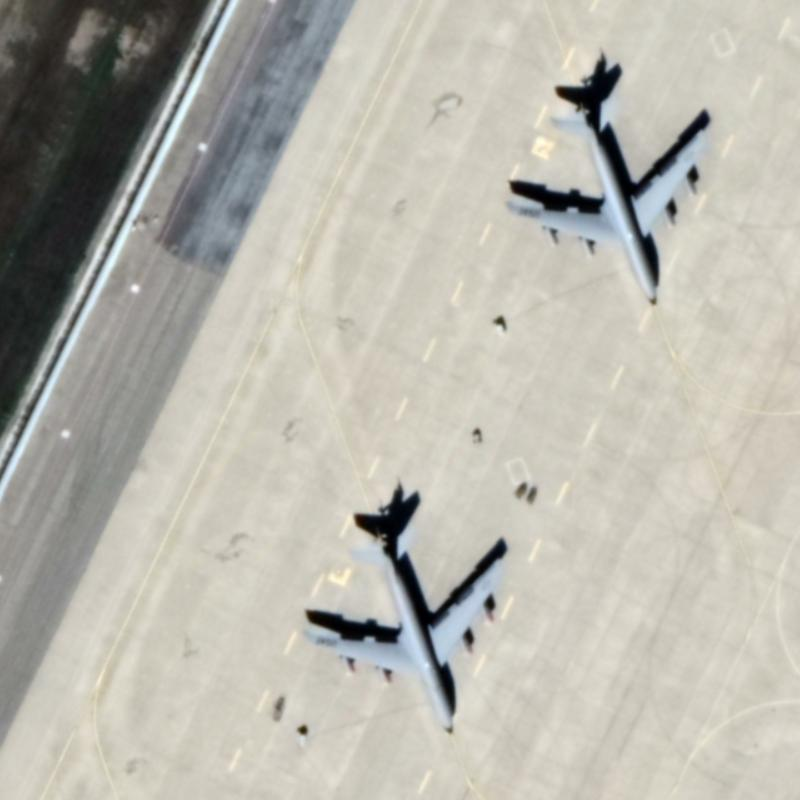A14: (498, 91, 723, 310), (303, 521, 509, 737)
